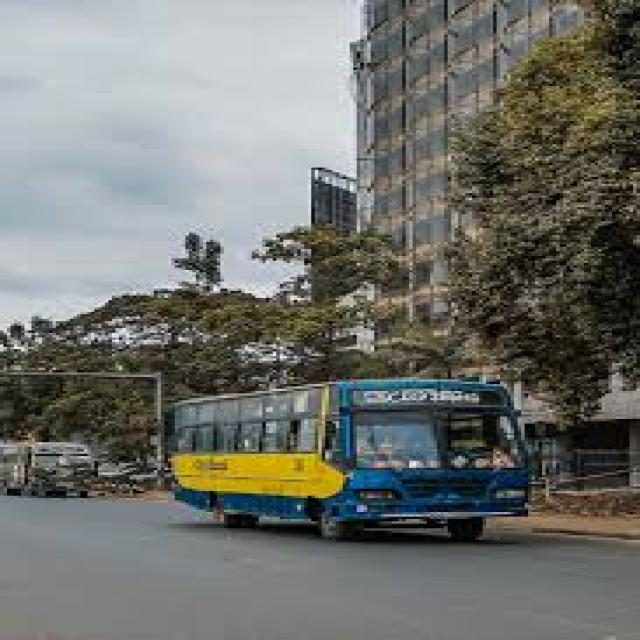bus: (145, 356, 569, 582)
